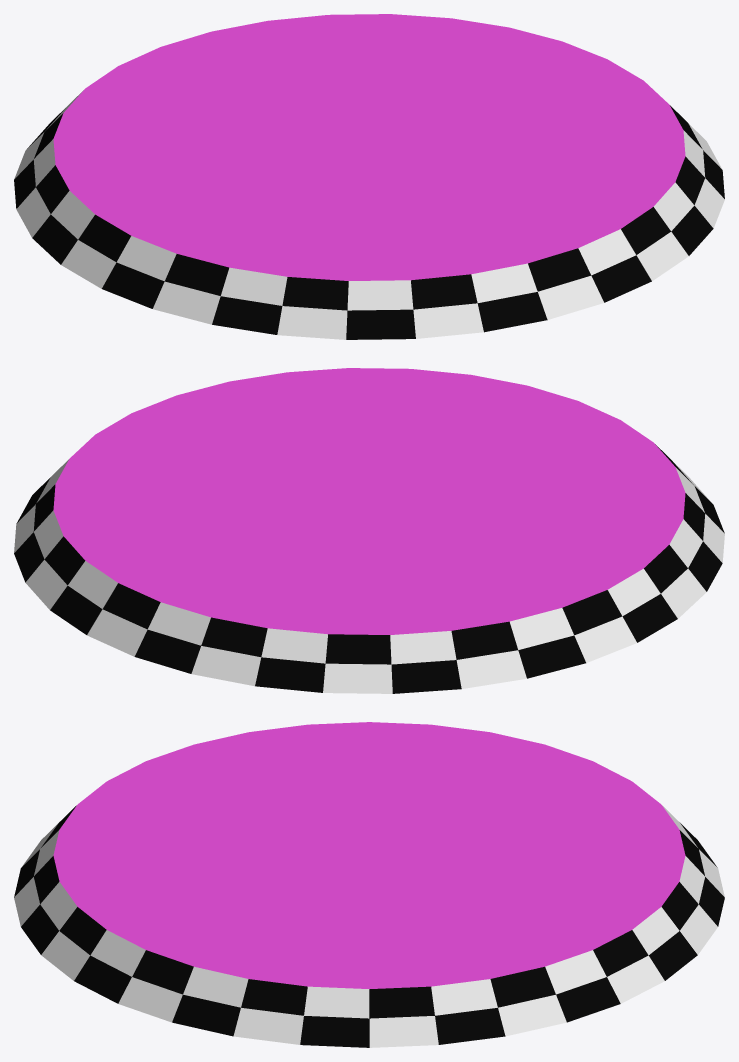
File: winner.fbx
The picture shows the model from 3 angles, top to bottom: view 1: azimuth 30°, elevation 25°; view 2: azimuth 150°, elevation 25°; view 3: azimuth 270°, elevation 25°; orthographic projection.
Visible parts, largest first — view 1: Cylinder; view 2: Cylinder; view 3: Cylinder.
Part boxes in pixels (x1=…): Cylinder: x1=14, y1=14, x2=724, y2=339; Cylinder: x1=14, y1=368, x2=724, y2=693; Cylinder: x1=14, y1=722, x2=724, y2=1047.
Bounding box in the file's own units: 856 × 55.9 × 856.
